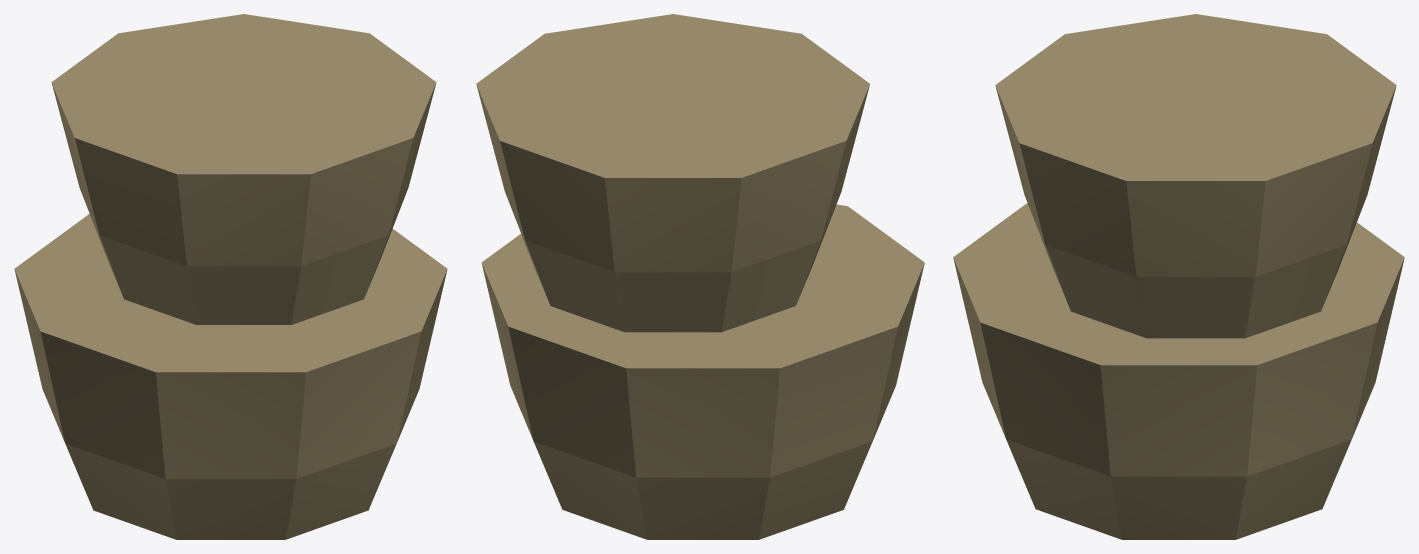
The model's file is prop_basket.glb.
The picture shows the model from 3 angles, left to right: view 1: azimuth 30°, elevation 25°; view 2: azimuth 150°, elevation 25°; view 3: azimuth 270°, elevation 25°; orthographic projection. The views are drawn at different scales.
Parts seen in each view (by area): view 1: prop_basket; view 2: prop_basket; view 3: prop_basket.
Boxes of the visible parts, box(x1,y1,x2,y2) form: prop_basket: box(14, 14, 447, 539); prop_basket: box(476, 14, 924, 539); prop_basket: box(953, 14, 1404, 539).
Size of the model in its own units: 0.5255 by 0.5 by 0.5318.
